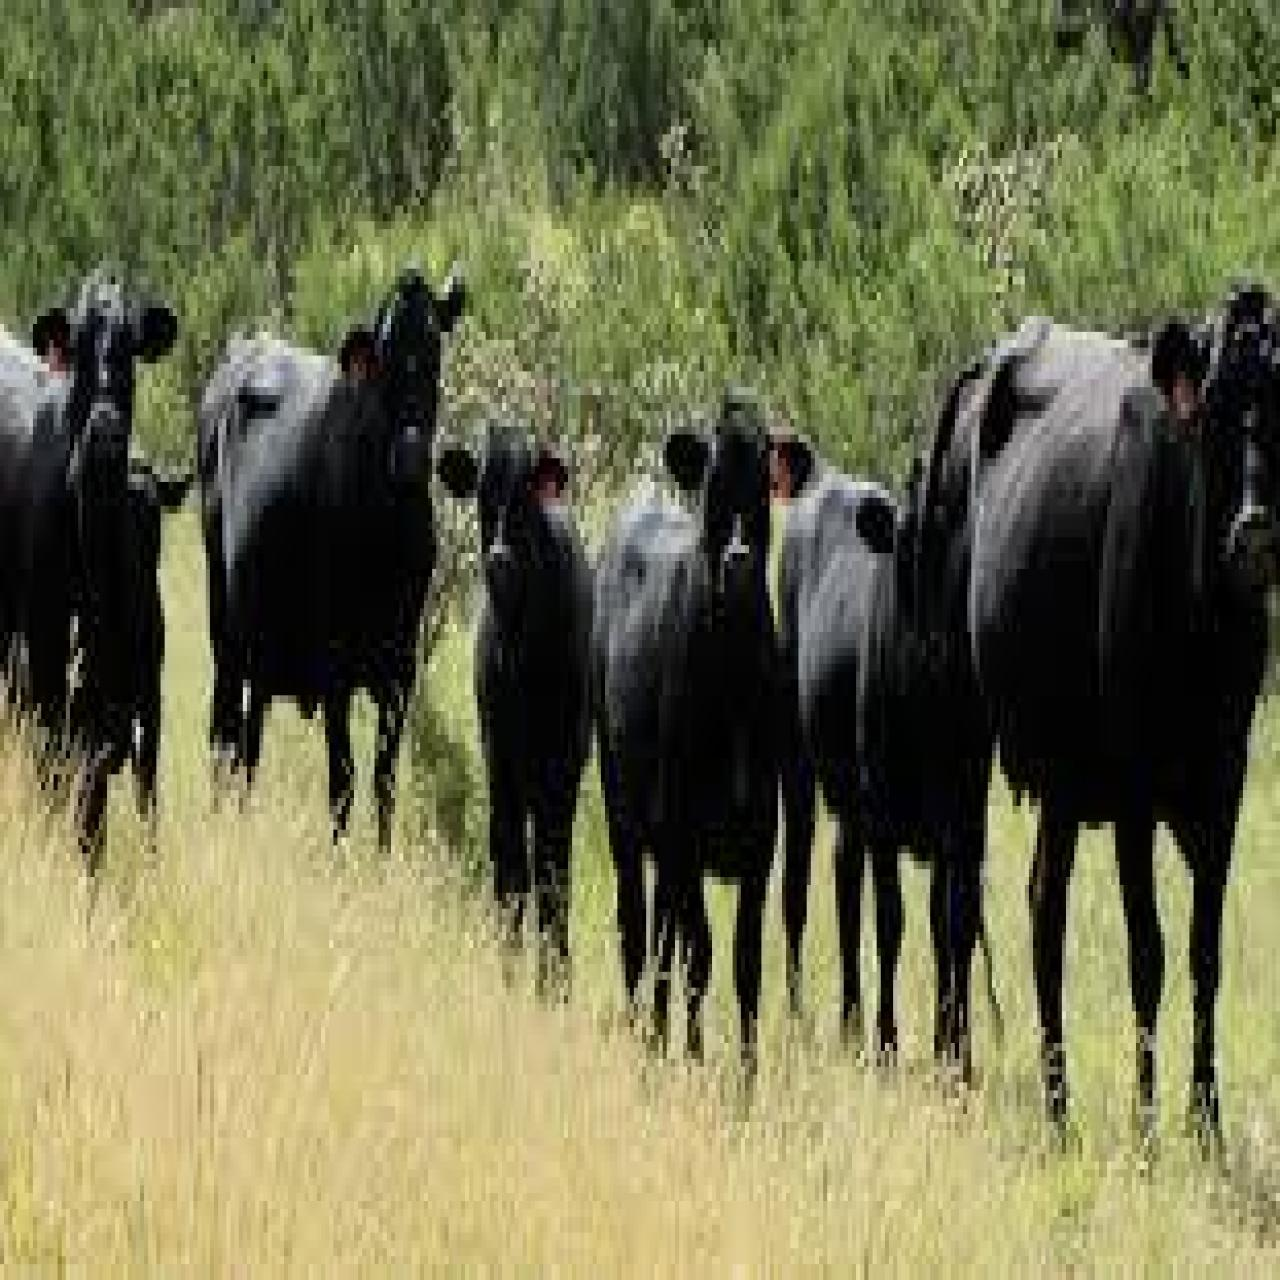cow: (922, 300, 1280, 1162), (190, 268, 474, 845), (597, 395, 815, 1098), (0, 280, 185, 858), (771, 475, 948, 1075), (438, 430, 615, 1008)
